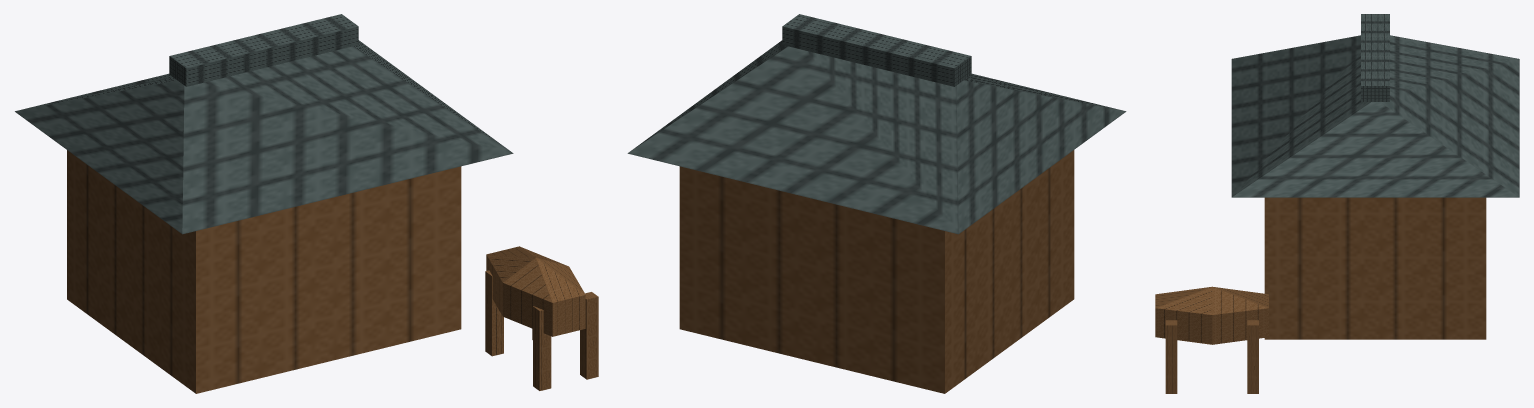
Rendered from domestic-STABLE-1-lod1.glb.
3 views of the same model, side by side, from view 1: azimuth 30°, elevation 25°; view 2: azimuth 150°, elevation 25°; view 3: azimuth 270°, elevation 25° (orthographic). The views are drawn at different scales.
Bounding box in the file's own units: 0.6413 × 0.483 × 0.6245.
1 material, 1 textured.
